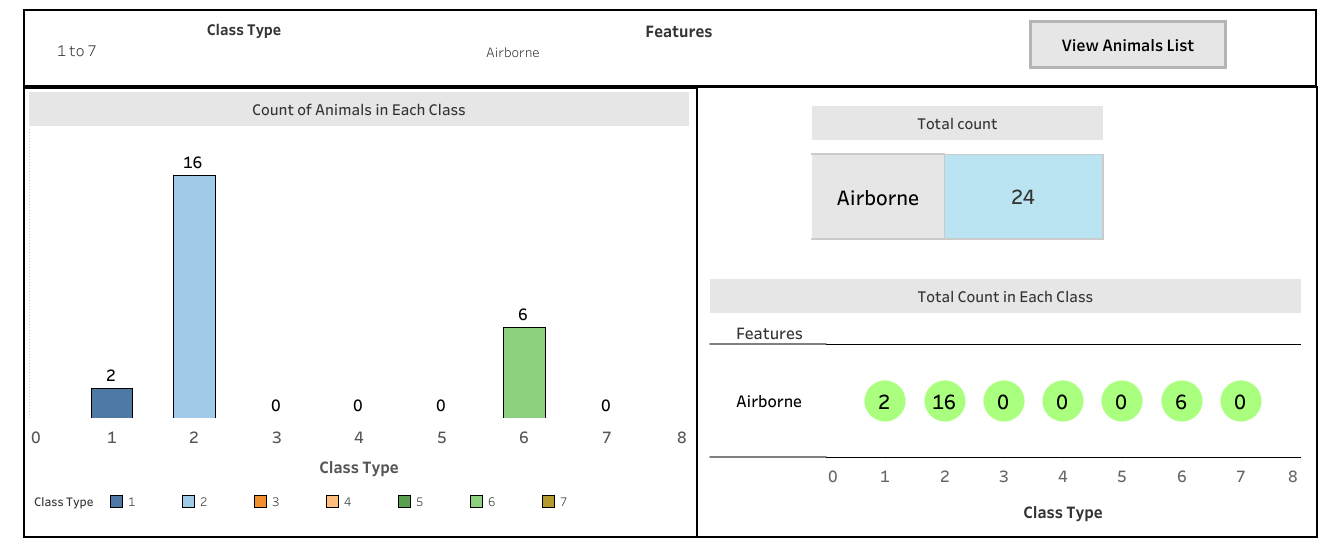

What the dashboard file says about the page in this screenshot:
{"tool":"tableau","page":{"name":"Zoo Animal Classification","canvas":[1000,1000],"units":"permille","ordinal":1},"visuals":[{"type":"blank","box":[17.3,16.9,966.3,141.9]},{"type":"filter","title":"Features Vs Class Types","param":"[federated.0sakimt1yhm2v414vwdiz0nzel2k].[none:class_type:qk]","box":[40.1,30.4,284.2,109.8]},{"type":"parameter","param":"[Parameters].[Parameter 1]","box":[361.6,32.1,291.4,118.2]},{"type":"dashboard-object","box":[768.1,37.2,148.6,87.8]},{"type":"blank","box":[520,155.4,464.5,821]},{"type":"blank","box":[17.3,158.8,503.6,817.6]},{"type":"worksheet","title":"Features Vs Class Types","mark":"Bar","rows":["Calculation_1215127527107743744"],"cols":["class_type"],"box":[21.9,167.2,492.7,712.8]},{"type":"worksheet","title":"Total count","mark":"Automatic","box":[605.6,192.6,288.7,270.3]},{"type":"worksheet","title":"Total Count in Each Class","mark":"Shape","cols":["class_type"],"box":[530,506.8,441.7,445.9]},{"type":"legend","title":"Features Vs Class Types","param":"[federated.0sakimt1yhm2v414vwdiz0nzel2k].[none:class_type:ok]","box":[25.5,890.2,487.2,64.2]}]}

Visuals, with their boxes on the dashboard's canvas, which has no fixed pixel size, in thousandths of its width and height (x1, y1, x2, y2). These are canvas units, not pixel positions in the 1338x550 screenshot, which may show the page scaled, cropped or inside an application window:
blank: 17 17 984 159
"Features Vs Class Types" filter: 40 30 324 140
parameter: 362 32 653 150
dashboard-object: 768 37 917 125
blank: 520 155 984 976
blank: 17 159 521 976
"Features Vs Class Types" worksheet (Bar marks): 22 167 515 880
"Total count" worksheet: 606 193 894 463
"Total Count in Each Class" worksheet (Shape marks): 530 507 972 953
"Features Vs Class Types" legend: 26 890 513 954
